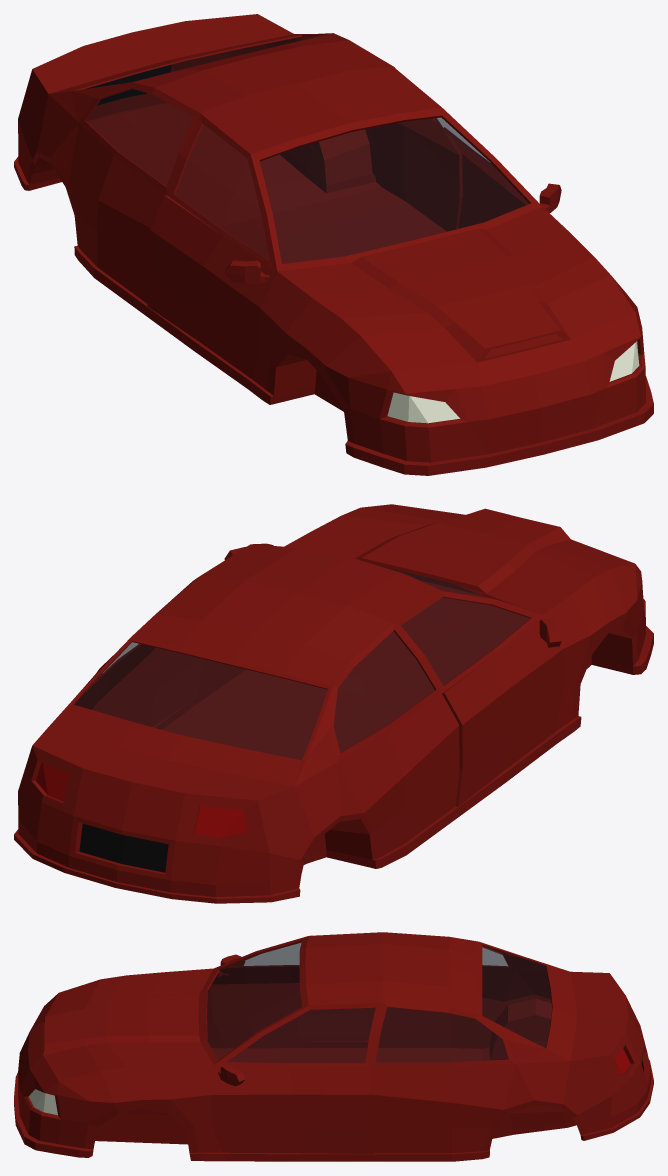
Rendered from QuaterniusSports.obj.
3 renders of one model, top to bottom at view 1: azimuth 30°, elevation 25°; view 2: azimuth 150°, elevation 25°; view 3: azimuth 270°, elevation 25°, orthographic. The views are drawn at different scales.
Parts seen in each view (by area): view 1: AarisRealisticSports; view 2: AarisRealisticSports; view 3: AarisRealisticSports.
Part boxes in pixels (x1=…): AarisRealisticSports: x1=14, y1=14, x2=653, y2=475; AarisRealisticSports: x1=14, y1=504, x2=653, y2=903; AarisRealisticSports: x1=14, y1=932, x2=653, y2=1161.
Bounding box in the file's own units: 1.8 × 0.9745 × 3.97.
